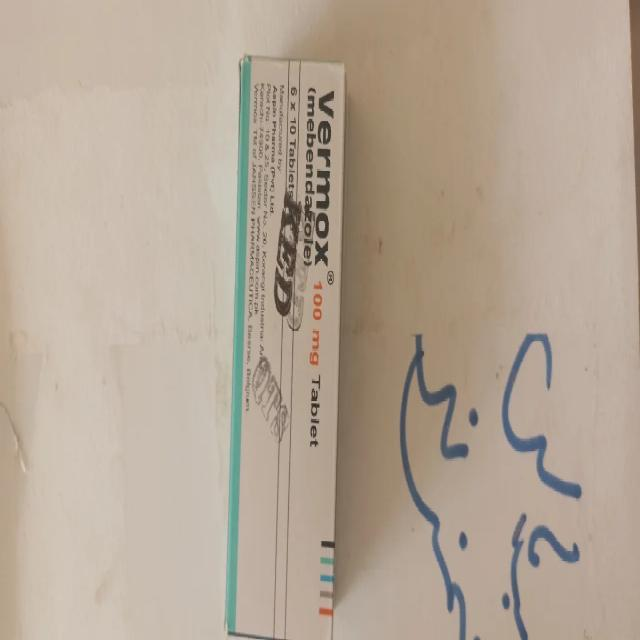drug-name: (313, 88, 336, 268)
